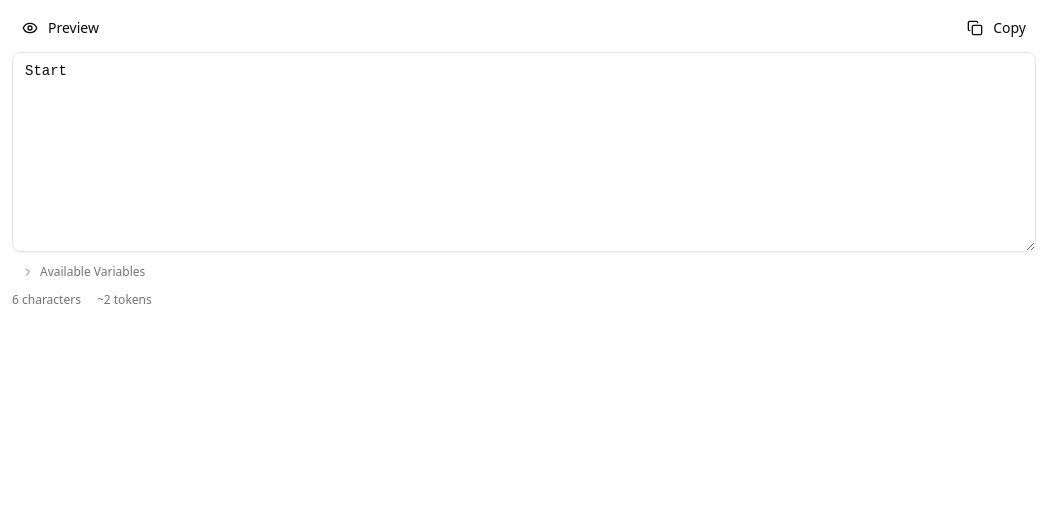
Test case: PromptEditor › inserts snippets verbatim without wrapping them in interpolation braces
Click the button "Available Variables".
click(84, 272)  # box x1=12 y1=264 x2=155 y2=280
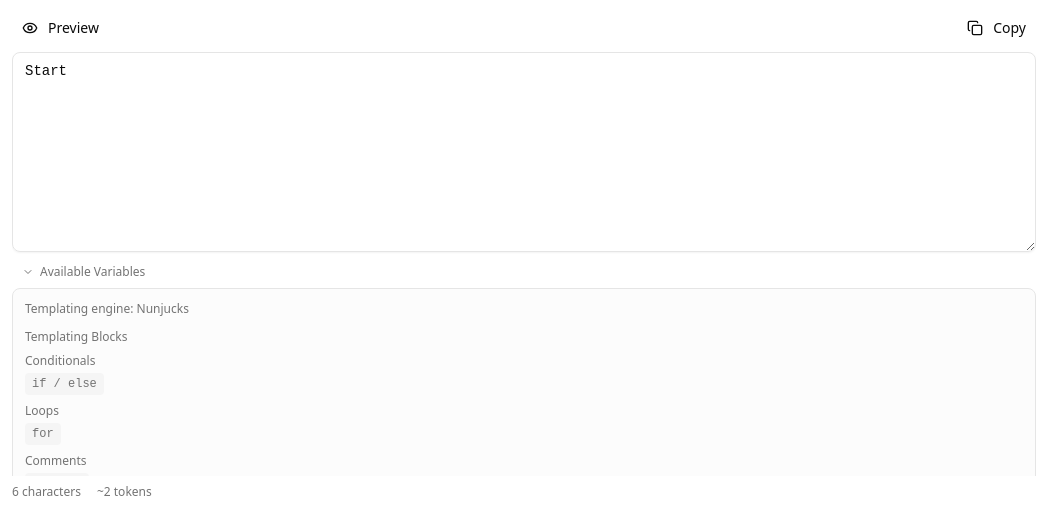
Click the button "if / else".
click(64, 384)  # box x1=25 y1=373 x2=104 y2=395
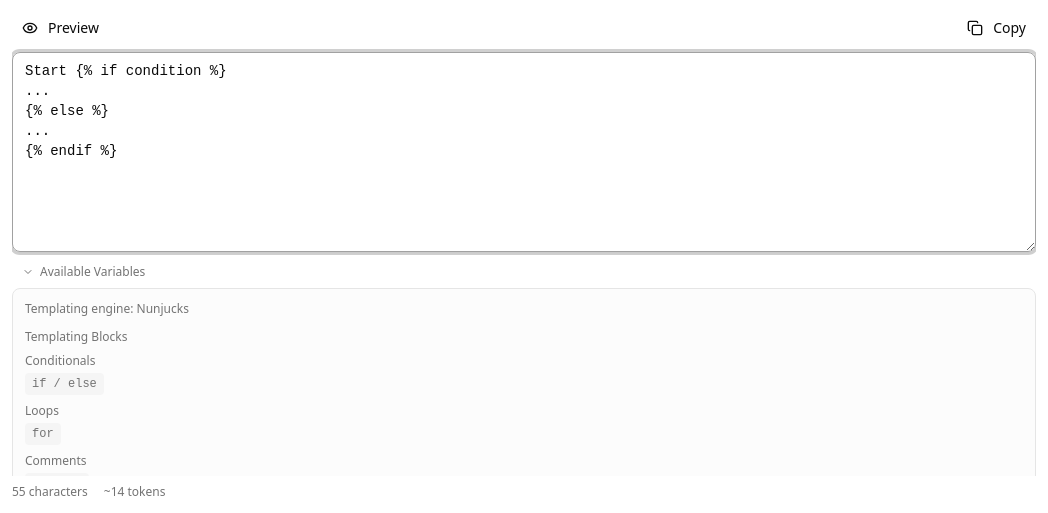
Expected: the text box with placeholder "Enter your system prompt..." holds "Start {% if condition %} ... {% else %} ... {% endif %}", x1=12 y1=52 x2=1036 y2=252
